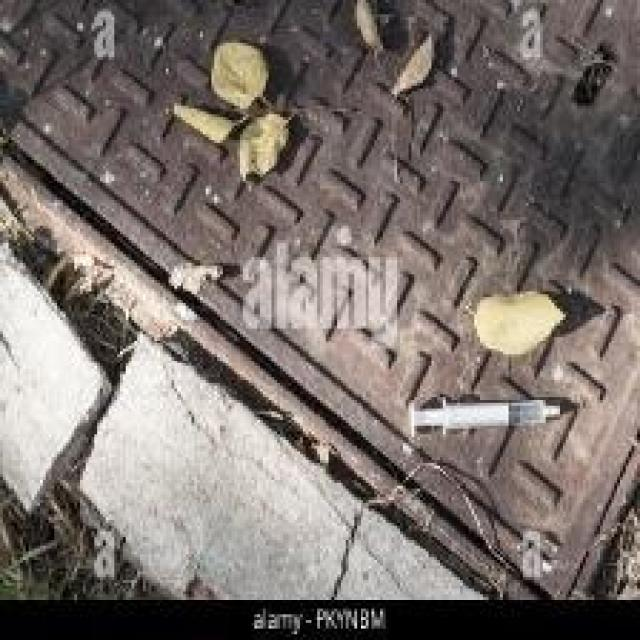syringe: (390, 382, 586, 452)
